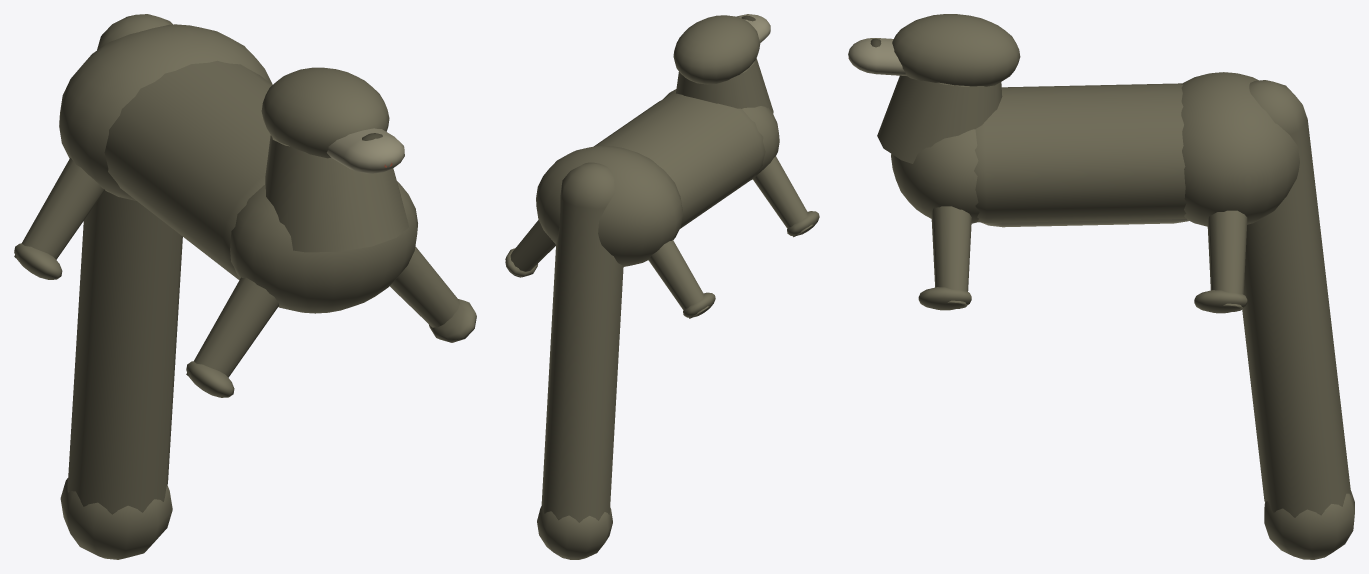
The model's file is h06-komodo.glb.
The picture shows the model from 3 angles, left to right: view 1: azimuth 30°, elevation 25°; view 2: azimuth 150°, elevation 25°; view 3: azimuth 270°, elevation 25°; orthographic projection. The views are drawn at different scales.
Parts seen in each view (by area): view 1: Komodo, neck, head; view 2: Komodo, head, neck; view 3: Komodo, head, neck.
Boxes of the visible parts, x1=… form: Komodo: x1=14, y1=14, x2=476, y2=559; neck: x1=265, y1=135, x2=408, y2=252; head: x1=261, y1=67, x2=404, y2=173; Komodo: x1=505, y1=89, x2=819, y2=559; head: x1=673, y1=14, x2=770, y2=84; neck: x1=676, y1=58, x2=773, y2=113; Komodo: x1=891, y1=72, x2=1354, y2=559; head: x1=848, y1=14, x2=1020, y2=86; neck: x1=877, y1=75, x2=1002, y2=163.
Size of the model in its own units: 0.6686 by 1.36 by 1.16.
